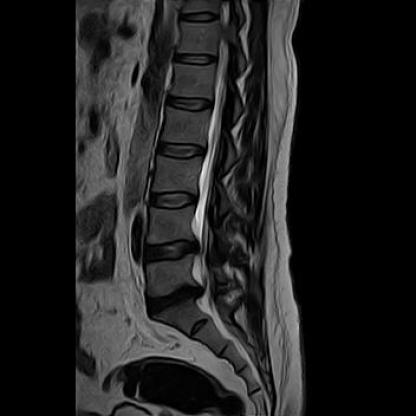Disc Bulgerotation: (143, 235, 206, 269), (141, 282, 203, 309)
